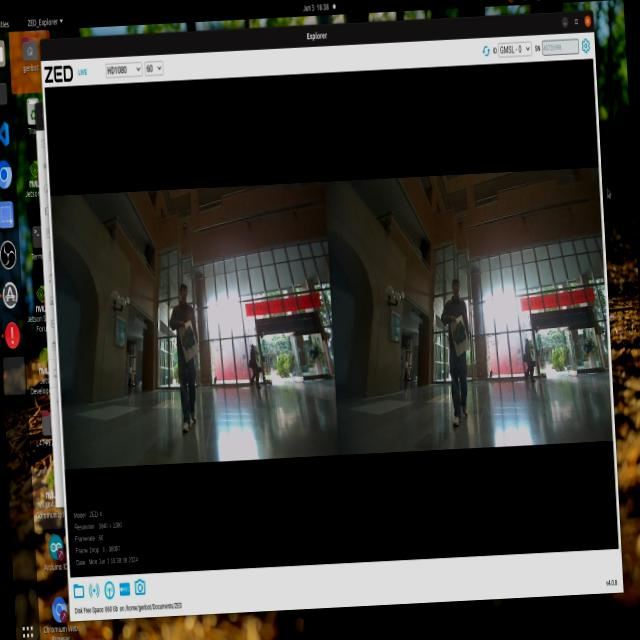green: (450, 312, 472, 354), (177, 320, 195, 350)
